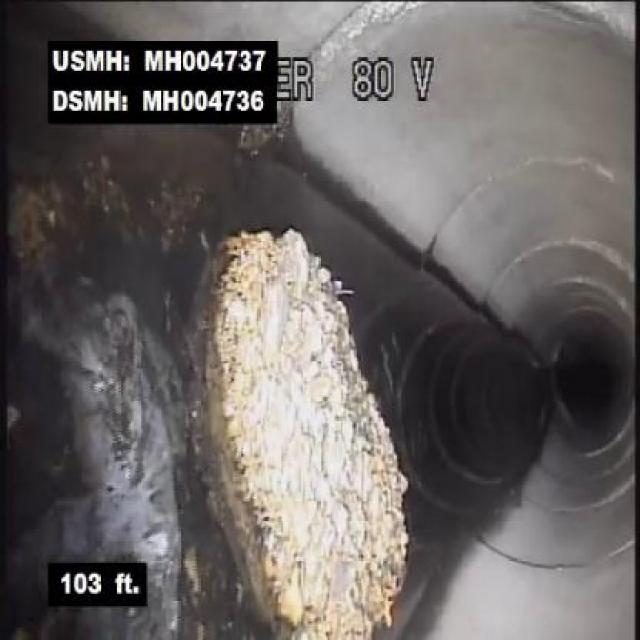Obstacle: (171, 194, 431, 638)
